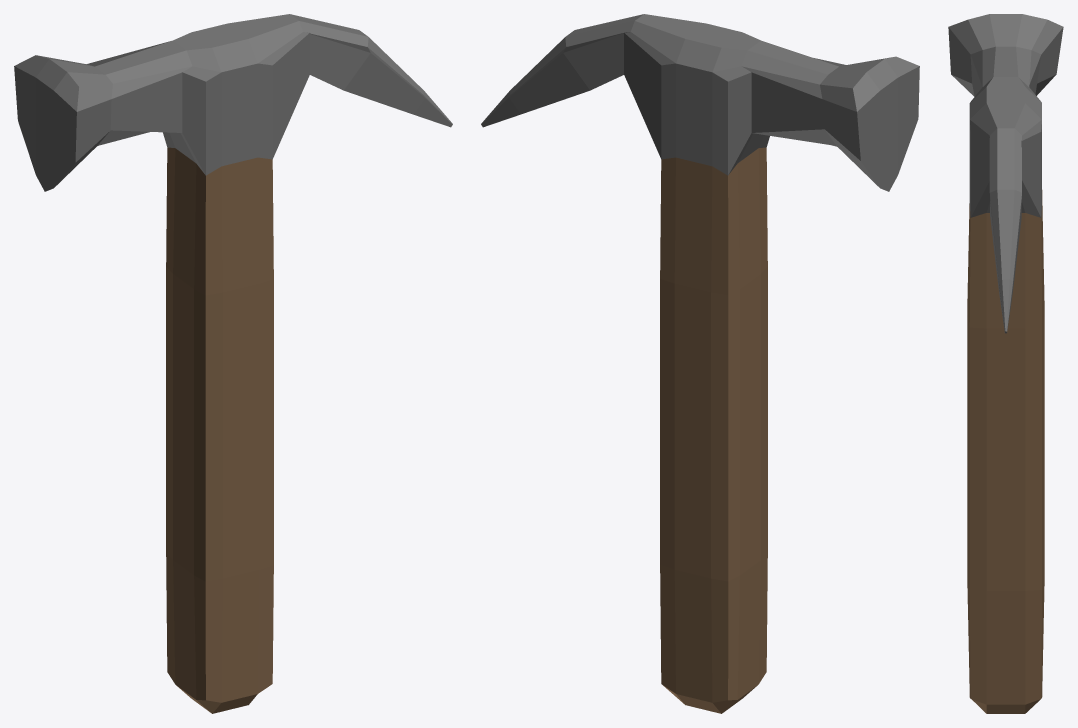
Rendered from martillo.fbx.
3 renders of one model, left to right at view 1: azimuth 30°, elevation 25°; view 2: azimuth 150°, elevation 25°; view 3: azimuth 270°, elevation 25°, orthographic. The views are drawn at different scales.
Visible parts, largest first — view 1: Cube; view 2: Cube; view 3: Cube.
Boxes of the visible parts, x1,y1,x2,y2 form: Cube: [14, 14, 452, 713]; Cube: [481, 14, 919, 713]; Cube: [948, 14, 1063, 713].
Bounding box in the file's own units: 55.9 × 88.56 × 14.93.
